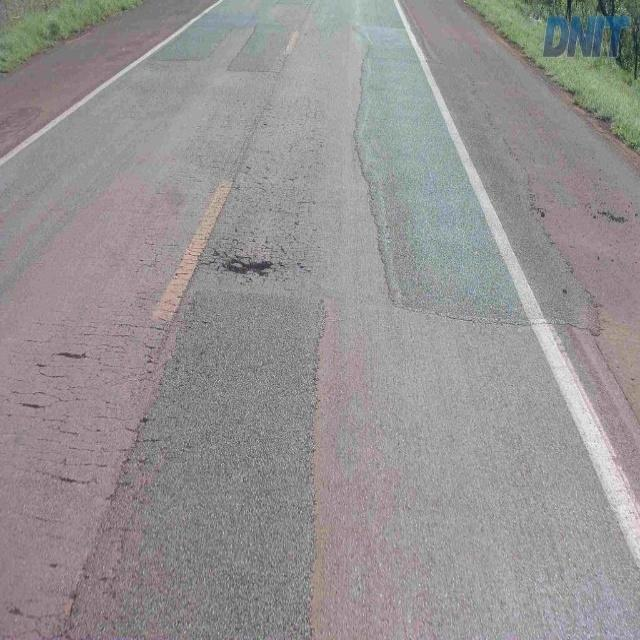pothole: (210, 245, 278, 282)
